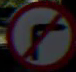Don't turn right: (9, 7, 66, 59)
